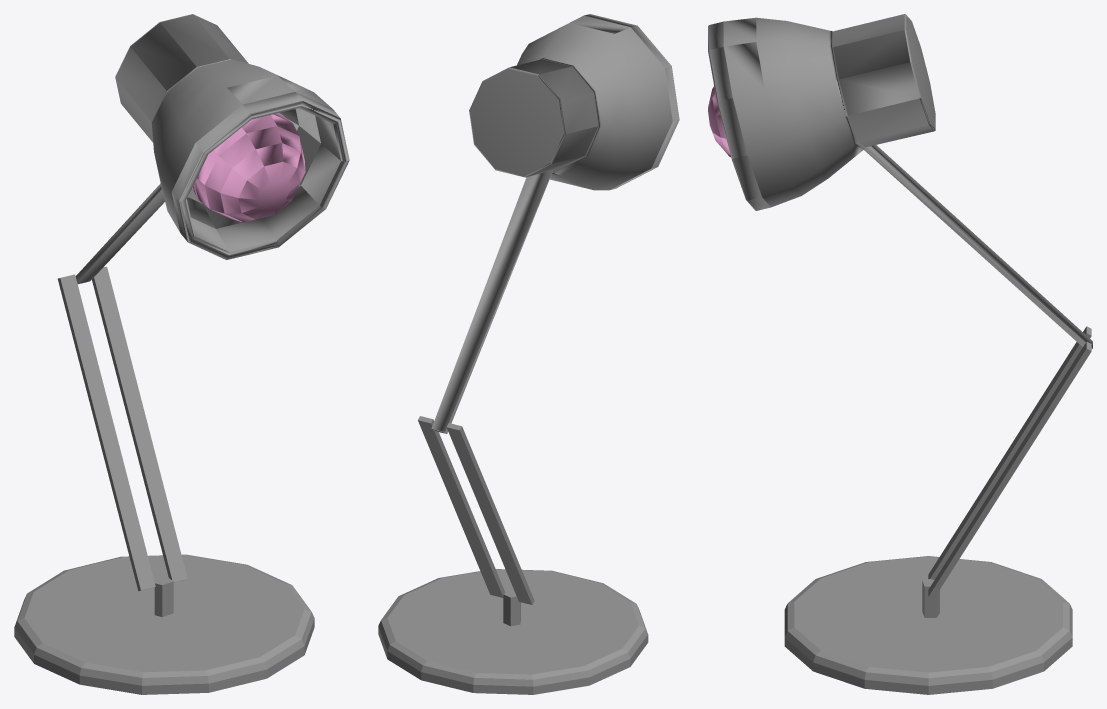
Rendered from Desk_Lamp01_SM.fbx.
3 views of the same model, side by side, from view 1: azimuth 30°, elevation 25°; view 2: azimuth 150°, elevation 25°; view 3: azimuth 270°, elevation 25° (orthographic). The views are drawn at different scales.
Parts seen in each view (by area): view 1: pSphere4; view 2: pSphere4; view 3: pSphere4.
Boxes of the visible parts, left/top/right/bottom form: pSphere4: left=14, top=14, right=349, bottom=694; pSphere4: left=378, top=14, right=679, bottom=694; pSphere4: left=708, top=14, right=1092, bottom=694.
Size of the model in its own units: 412 by 941 by 537.
